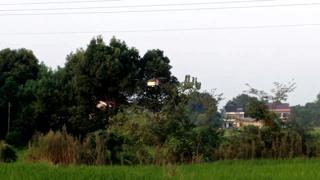UAV: (132, 78, 167, 87)
